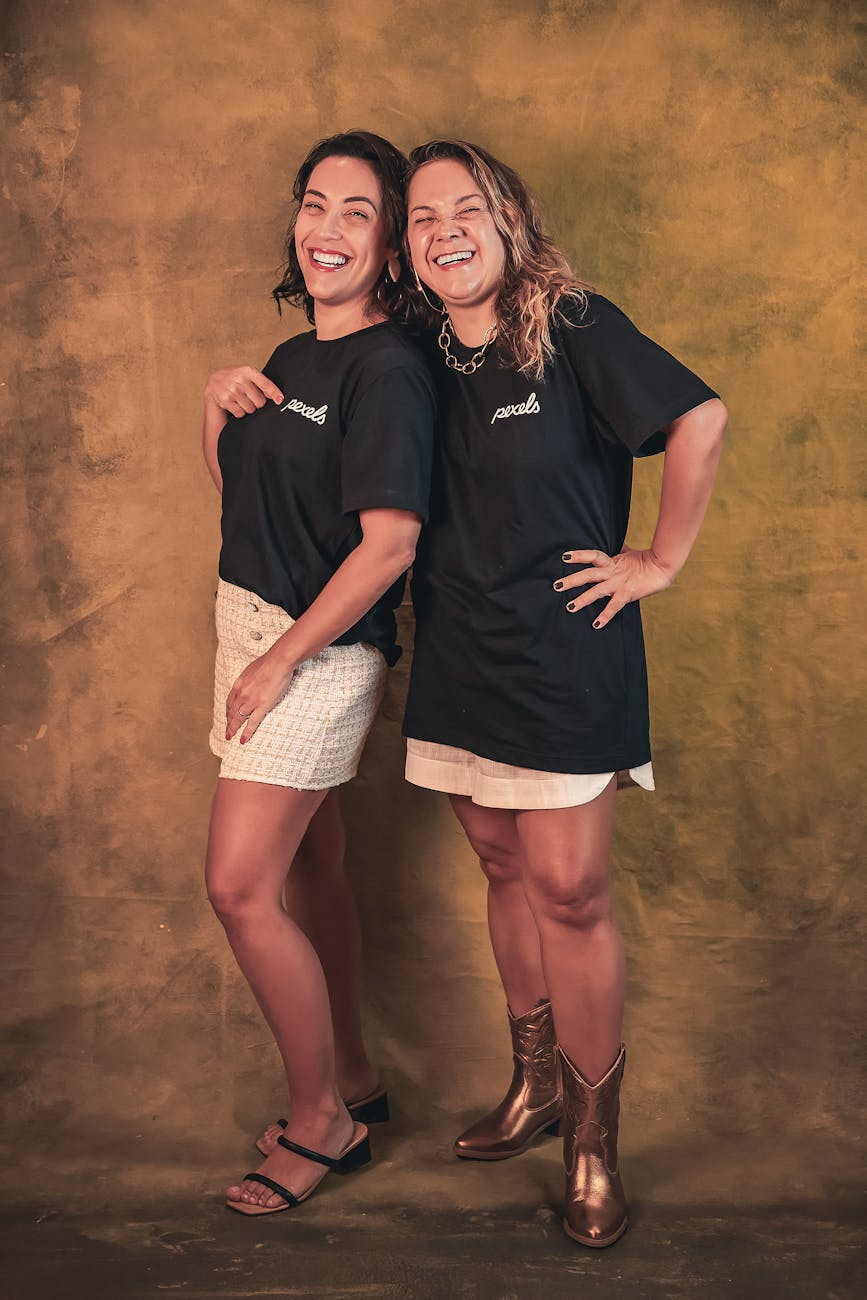opened_foot: (219, 1089, 385, 1219)
short_medium_skirt: (389, 703, 664, 824)
shorts: (194, 586, 397, 792)
